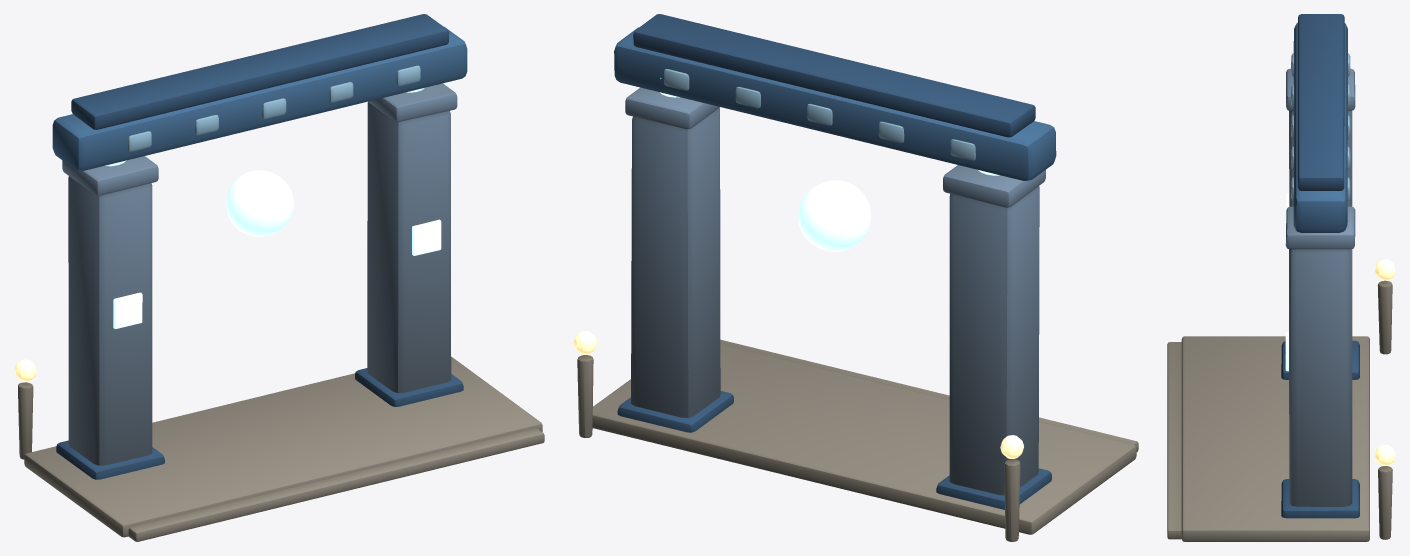
3 renders of one model, left to right at view 1: azimuth 30°, elevation 25°; view 2: azimuth 150°, elevation 25°; view 3: azimuth 270°, elevation 25°, orthographic. The views are drawn at different scales.
Visible parts, largest first — view 1: gate_0060beaa; view 2: gate_0060beaa; view 3: gate_0060beaa.
Boxes of the visible parts, box(x1,y1,x2,y2) form: gate_0060beaa: box(14, 14, 544, 541); gate_0060beaa: box(573, 14, 1138, 541); gate_0060beaa: box(1167, 14, 1395, 541).
Bounding box in the file's own units: 5.15 × 4.32 × 2.55.
